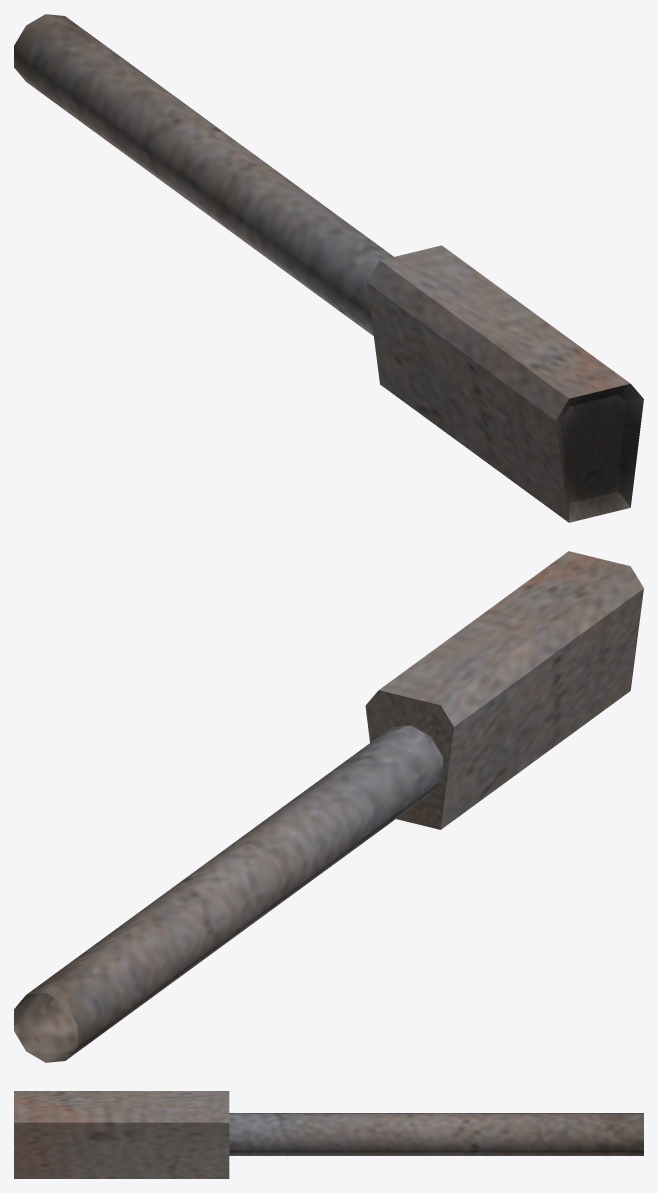
Rendered from LazerTowerGun.fbx.
3 views of the same model, one above another, from view 1: azimuth 30°, elevation 25°; view 2: azimuth 150°, elevation 25°; view 3: azimuth 270°, elevation 25° (orthographic). The views are drawn at different scales.
Visible parts, largest first — view 1: gin_R1; view 2: gin_R1; view 3: gin_R1.
Part boxes in pixels (x1,y1,x2,y2): gin_R1: (14,14,643,522); gin_R1: (14,551,643,1062); gin_R1: (14,1091,643,1178).
Size of the model in its own units: 8.87 by 11.94 by 96.4.
1 material, 1 textured.
